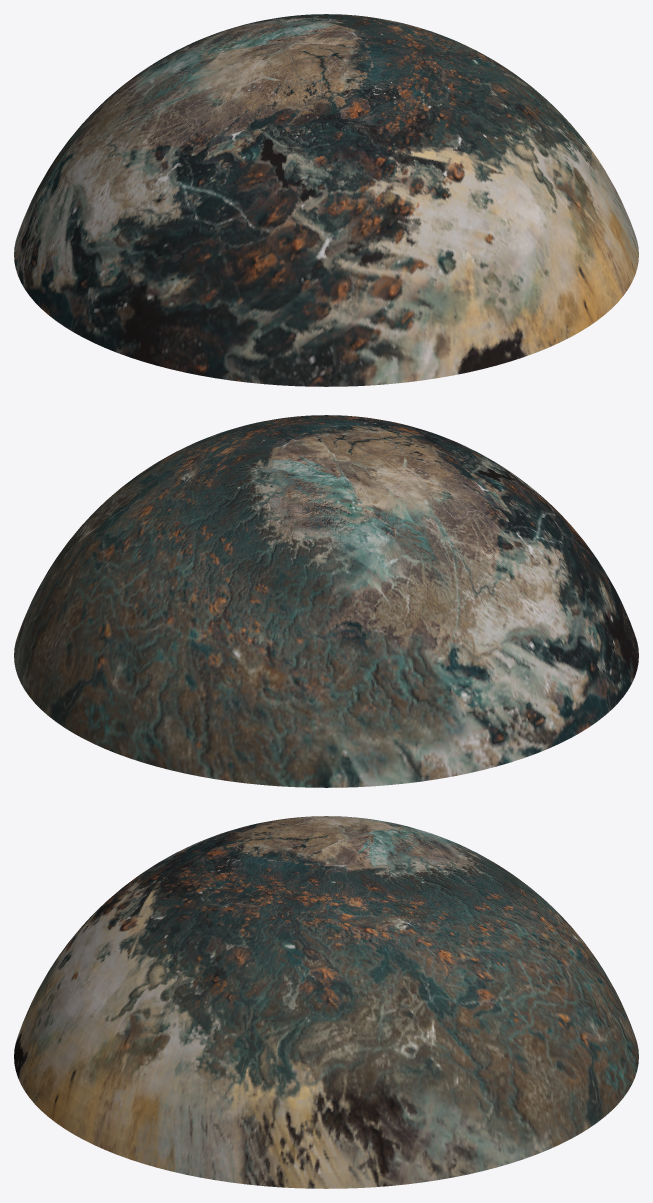
File: planetMesh.fbx
The picture shows the model from 3 angles, top to bottom: view 1: azimuth 30°, elevation 25°; view 2: azimuth 150°, elevation 25°; view 3: azimuth 270°, elevation 25°; orthographic projection.
Visible parts, largest first — view 1: Sphere; view 2: Sphere; view 3: Sphere.
Boxes of the visible parts, bbox=[...] form: Sphere: bbox=[14, 14, 638, 386]; Sphere: bbox=[14, 415, 638, 787]; Sphere: bbox=[14, 816, 638, 1188].
Size of the model in its own units: 76555 by 76555 by 28389.
1 material, 1 textured.
